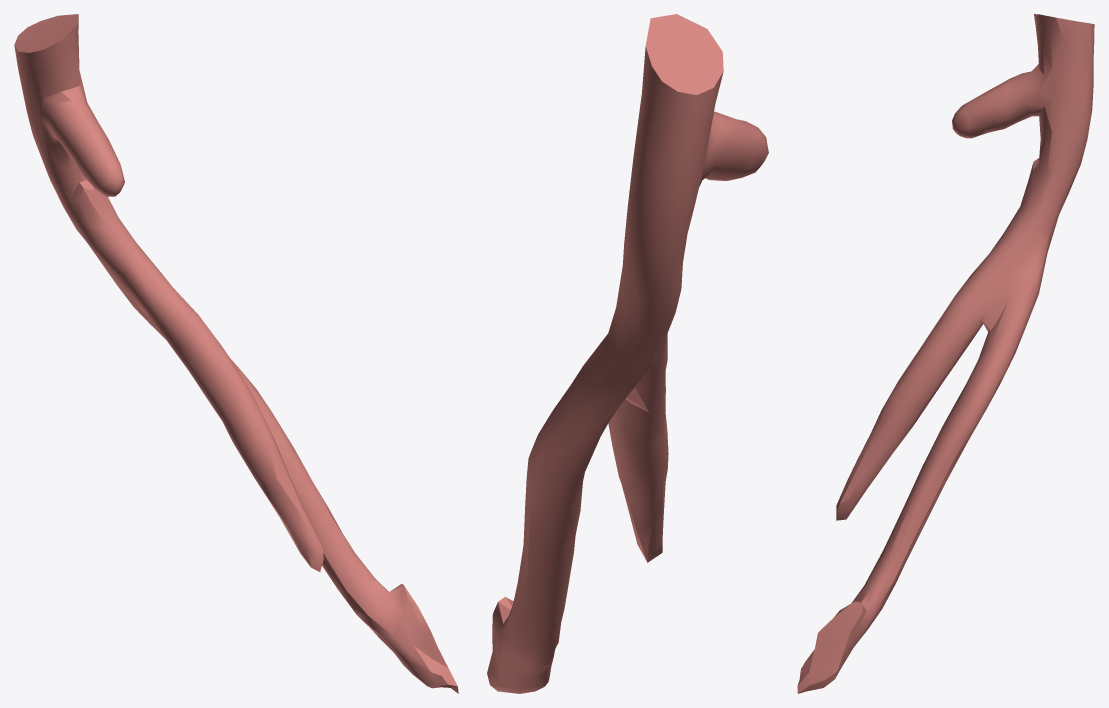
The model's file is fma39630_mm1954m.glb.
3 renders of one model, left to right at view 1: azimuth 30°, elevation 25°; view 2: azimuth 150°, elevation 25°; view 3: azimuth 270°, elevation 25°, orthographic. The views are drawn at different scales.
Parts seen in each view (by area): view 1: FMA39630_MM1954M; view 2: FMA39630_MM1954M; view 3: FMA39630_MM1954M.
Boxes of the visible parts, x1,y1,x2,y2 form: FMA39630_MM1954M: [14, 14, 458, 693]; FMA39630_MM1954M: [487, 14, 768, 693]; FMA39630_MM1954M: [797, 14, 1094, 693].
Bounding box in the file's own units: 0.0221 × 0.0461 × 0.0217.
